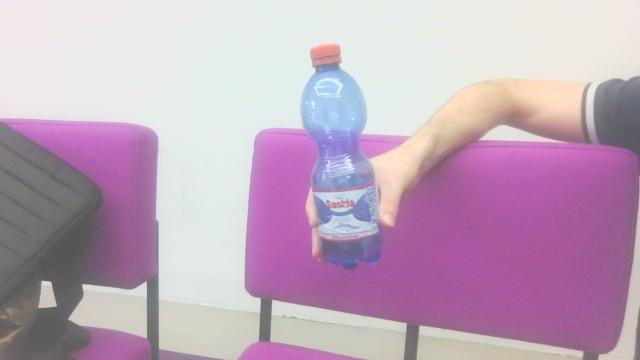plastic_bottle: (291, 39, 397, 277)
